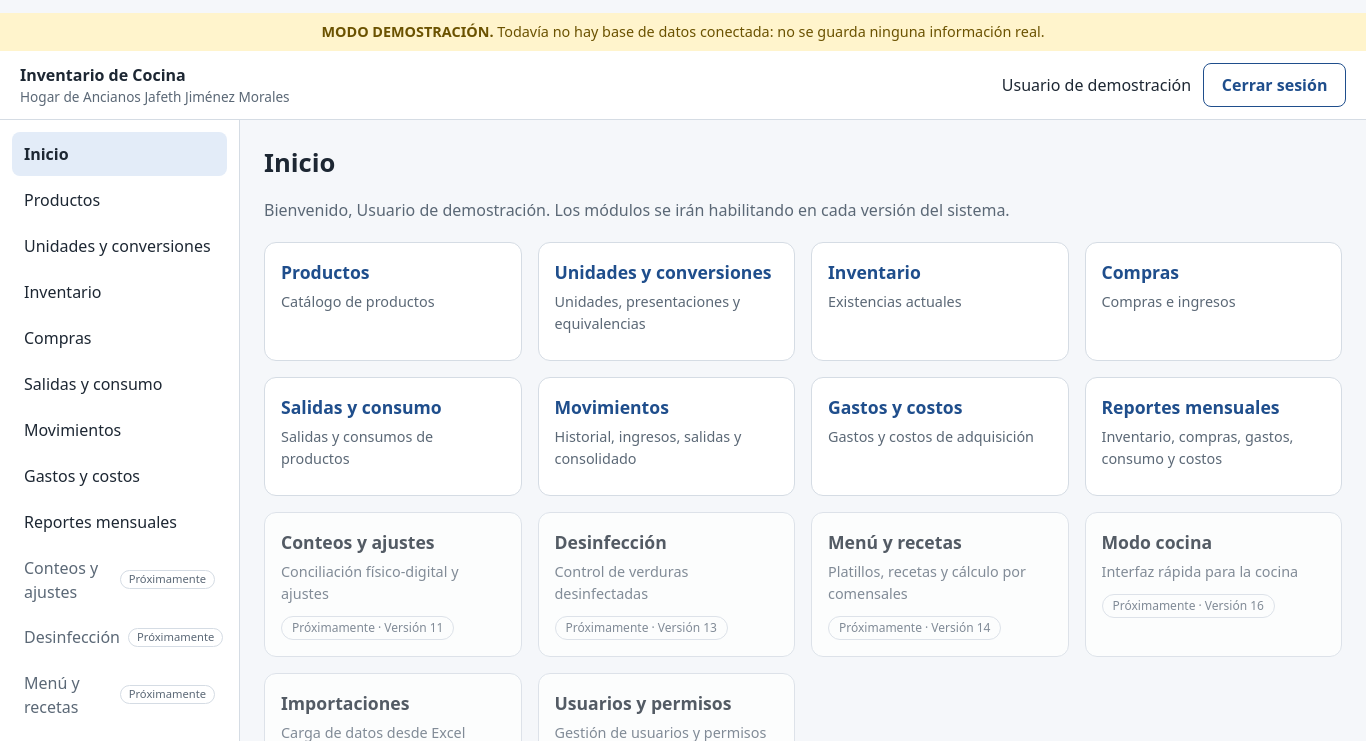
Test: salidas y consumos: acceso y navegación › desde el menú se llega a Salidas, y desde ahí a Consumos, que son listados separados
(page scrolled)
Expected: the heading "Inicio" is shown, [264,145,335,180]
Click the link "Salidas y consumo": (93, 384) [24,373,162,395]
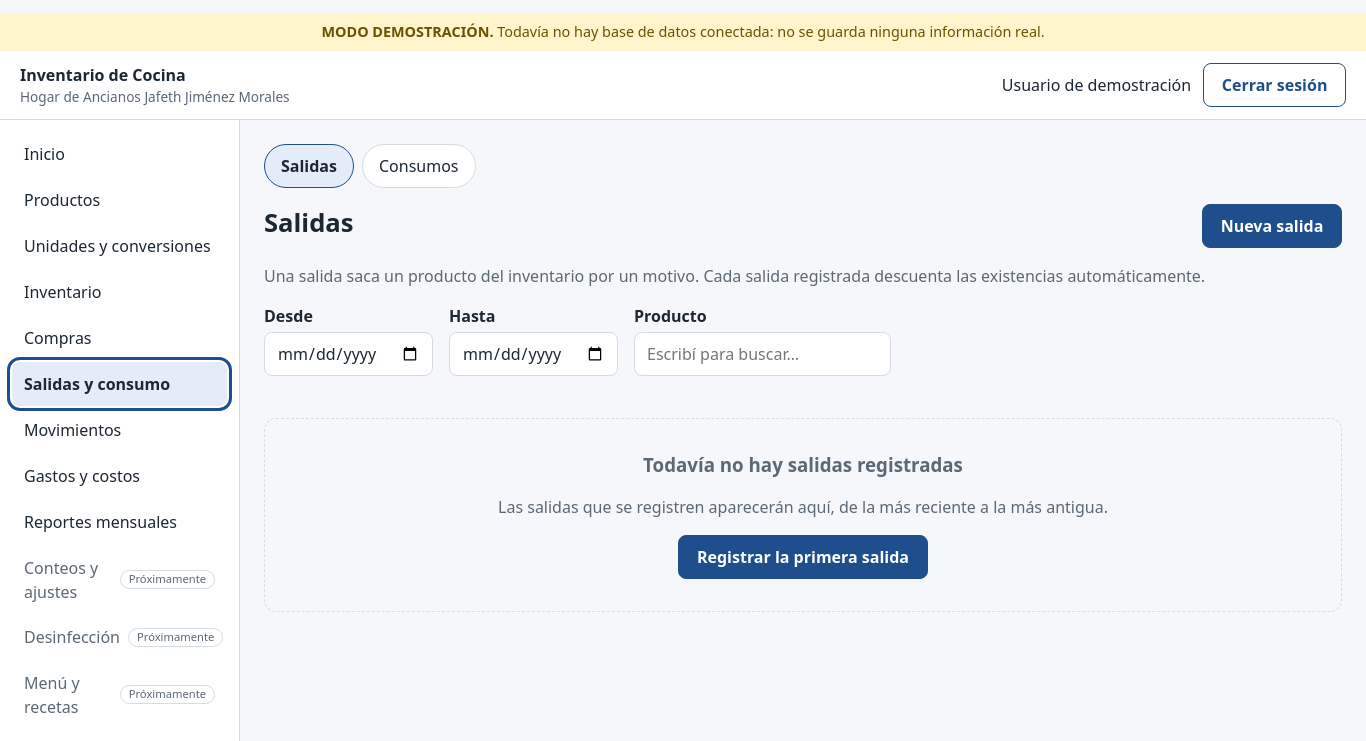
Result: the heading "Salidas" is shown at [264,204,354,242]
Click the link "Consumos": (419, 166) [362,144,476,188]
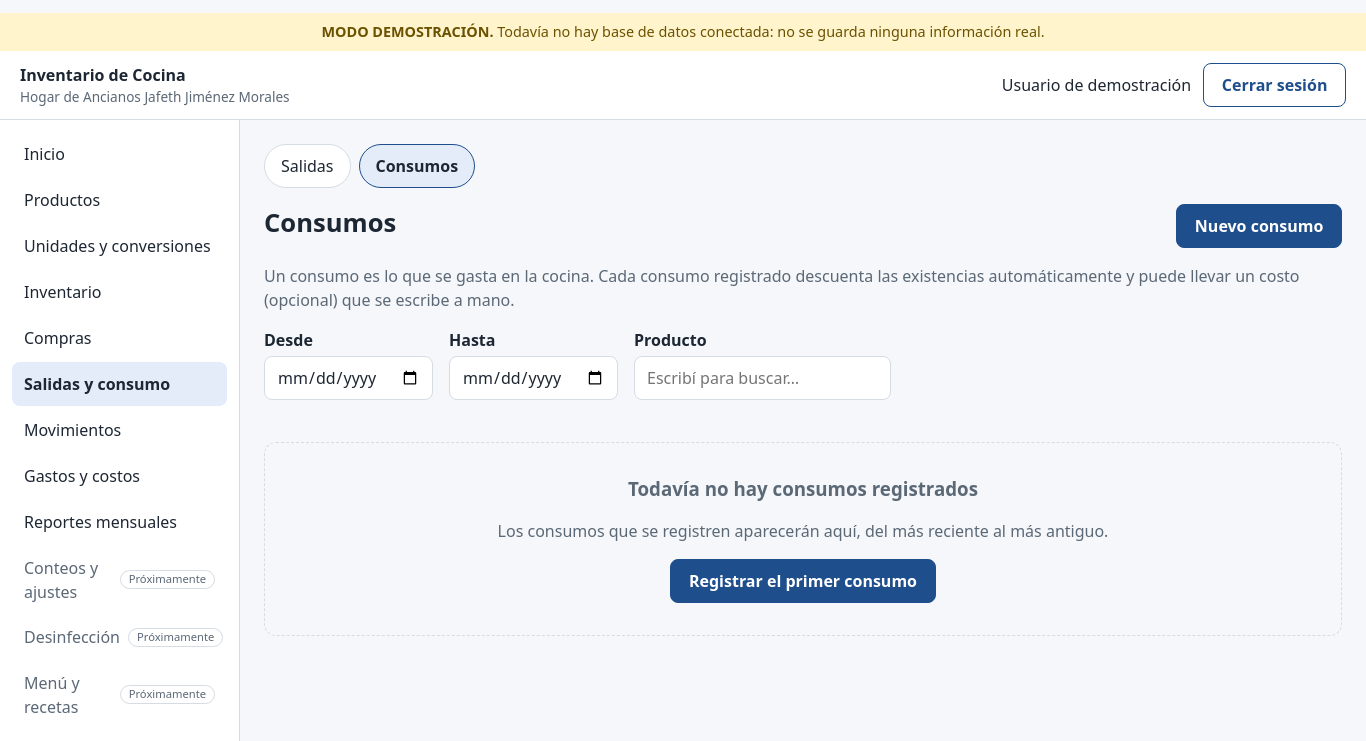
Result: the heading "Consumos" is shown at [264,204,396,242]
